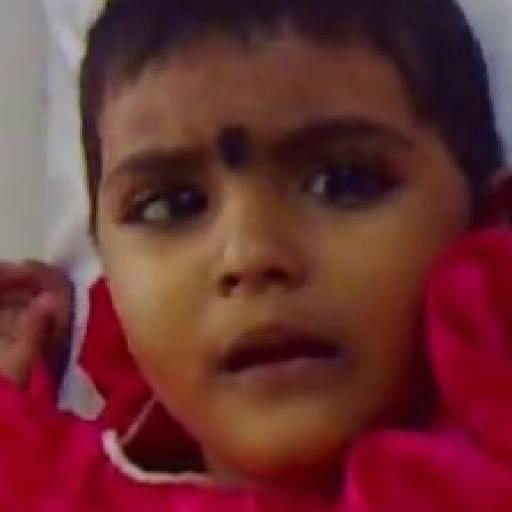Autism: (75, 24, 477, 489)
